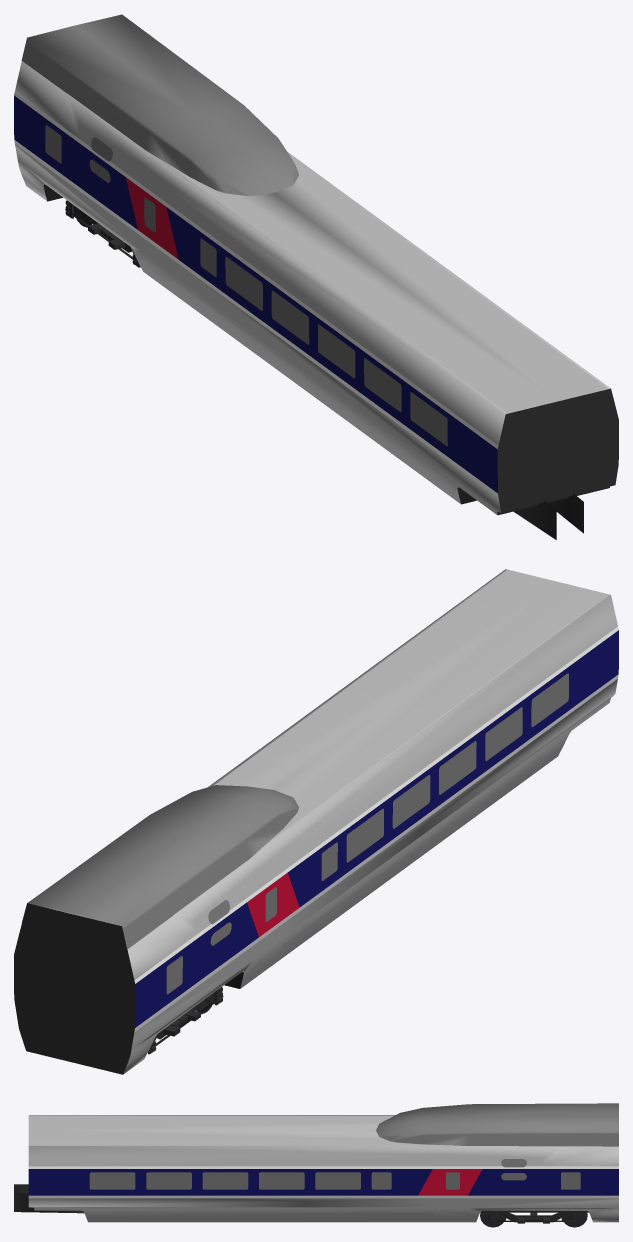
The model's file is TGVReseau_car9.gltf.
3 renders of one model, top to bottom at view 1: azimuth 30°, elevation 25°; view 2: azimuth 150°, elevation 25°; view 3: azimuth 270°, elevation 25°, orthographic. The views are drawn at different scales.
Visible parts, largest first — view 1: Group#2.001, Group#2, boogie.016; view 2: Group#2.001, Group#2, boogie.016; view 3: Group#2, Group#2.001, boogie.014.
Part boxes in pixels (bbox=[...]): Group#2.001: bbox=[14, 25, 558, 539]; Group#2: bbox=[75, 14, 618, 533]; boogie.016: bbox=[65, 200, 140, 267]; Group#2.001: bbox=[74, 582, 618, 1074]; Group#2: bbox=[14, 569, 557, 1062]; boogie.016: bbox=[148, 987, 223, 1054]; Group#2: bbox=[14, 1117, 618, 1222]; Group#2.001: bbox=[14, 1103, 618, 1192]; boogie.014: bbox=[480, 1210, 587, 1227].
Size of the model in its own units: 3.16 by 4.16 by 22.34.
